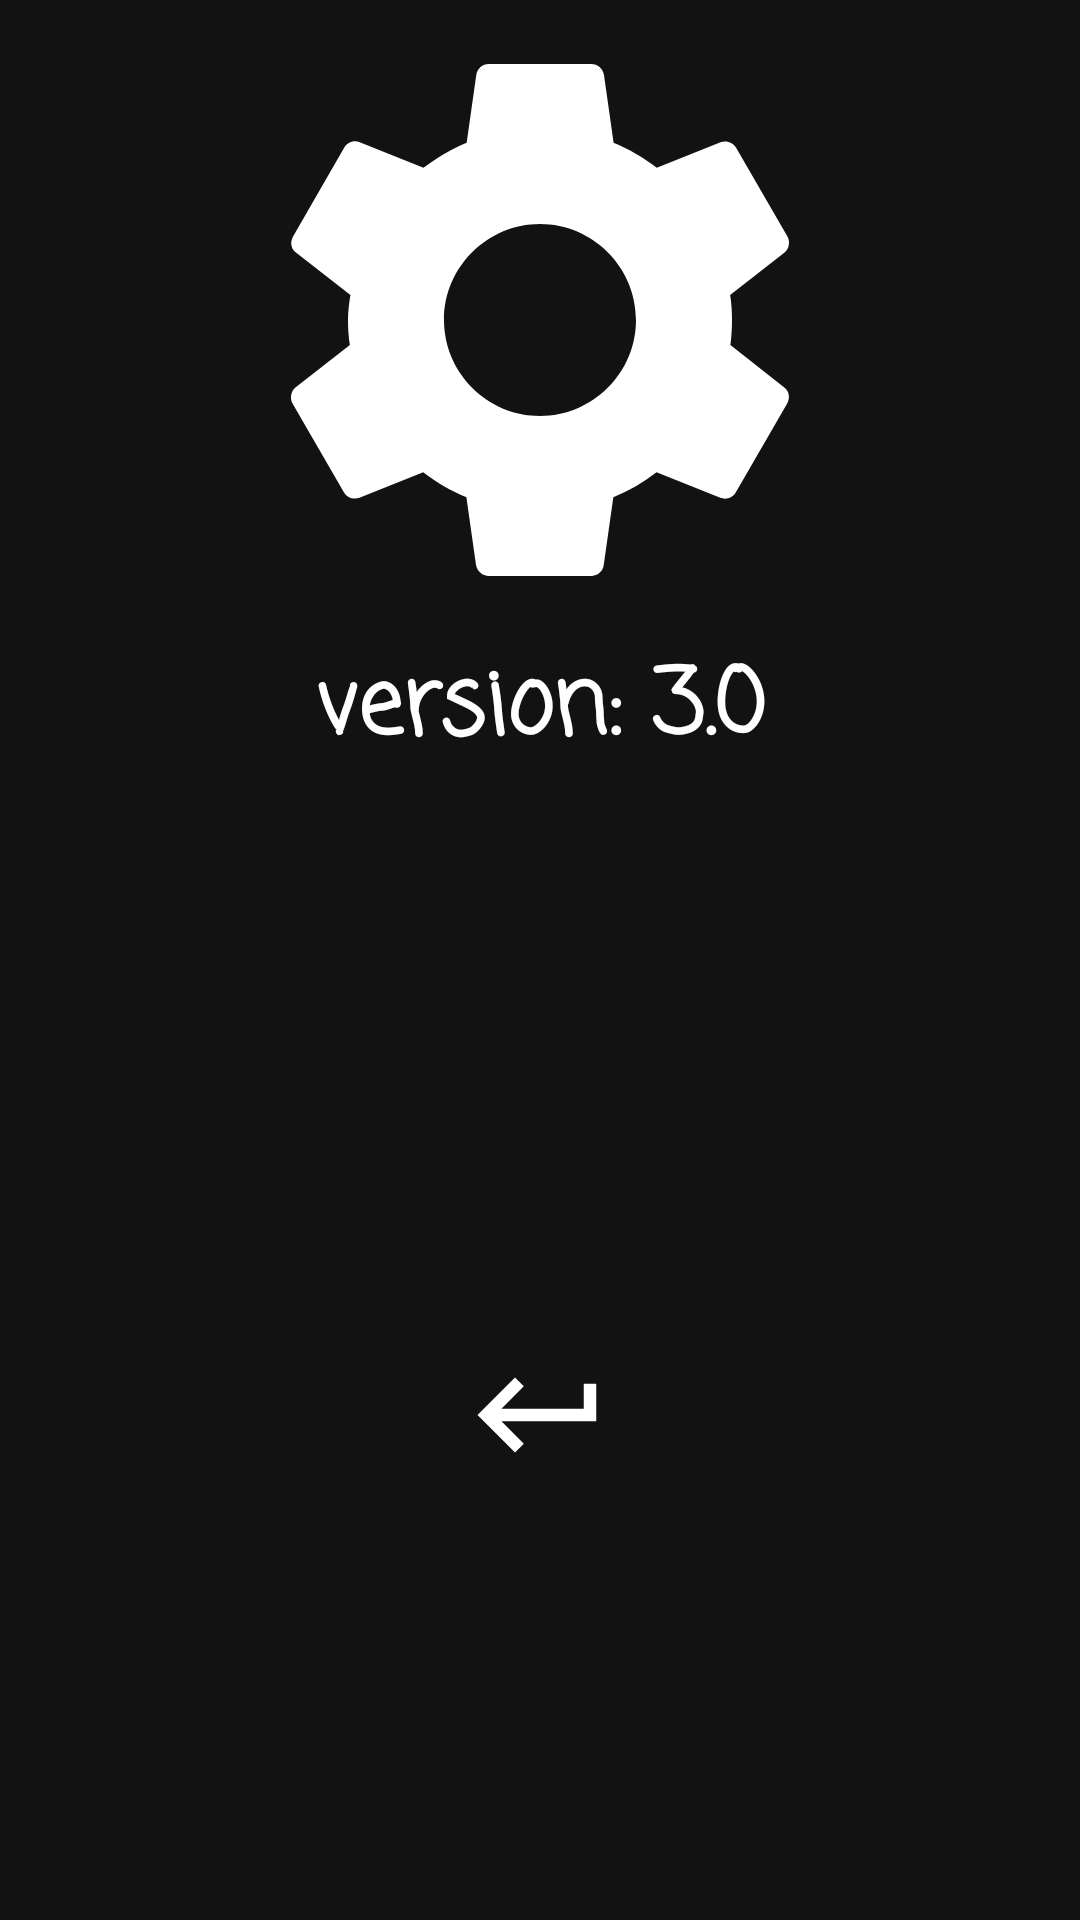

Named icons in this screenshot (1080 × 1920) and their bounding boxes, {"left": x1, "top": y1, "right": x2, "bottom": y2}:
return: {"left": 477, "top": 1377, "right": 597, "bottom": 1453}
